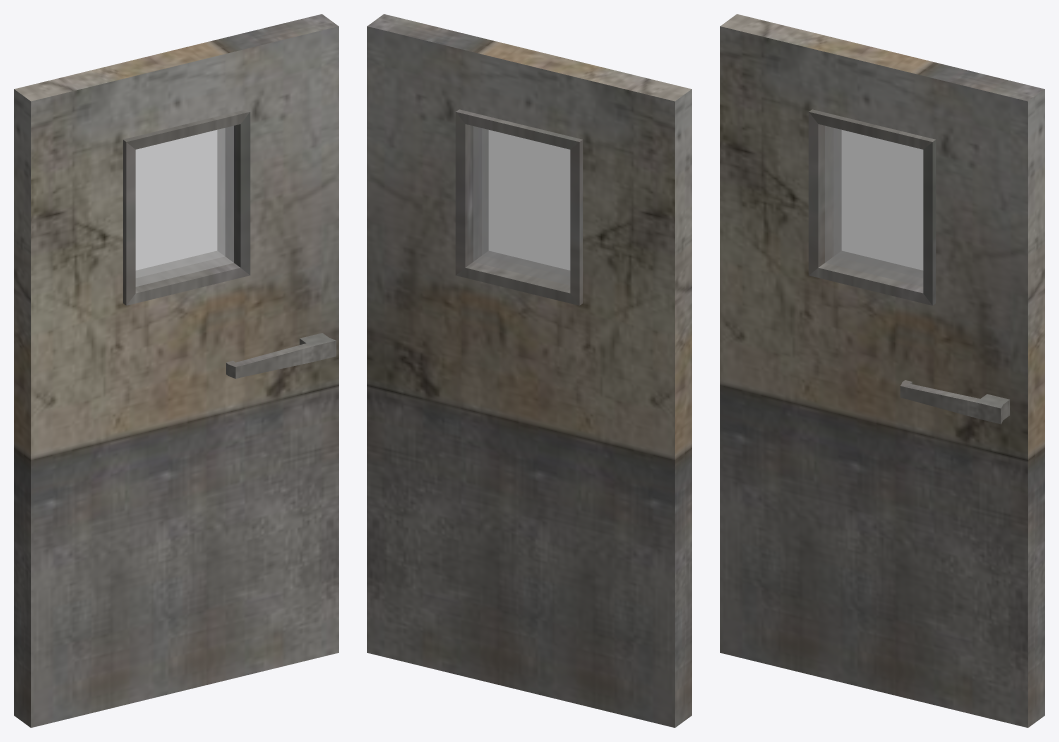
Rendered from BackroomDoor.glb.
3 views of the same model, side by side, from view 1: azimuth 30°, elevation 25°; view 2: azimuth 150°, elevation 25°; view 3: azimuth 330°, elevation 25° (orthographic).
Parts seen in each view (by area): view 1: Door_02; view 2: Door_02; view 3: Door_02.
Boxes of the visible parts, x1,y1,x2,y2 form: Door_02: (14, 14, 338, 727); Door_02: (367, 14, 691, 727); Door_02: (720, 14, 1044, 727).
Size of the model in its own units: 1.37 by 2.67 by 0.2505.
2 materials, 1 textured.
